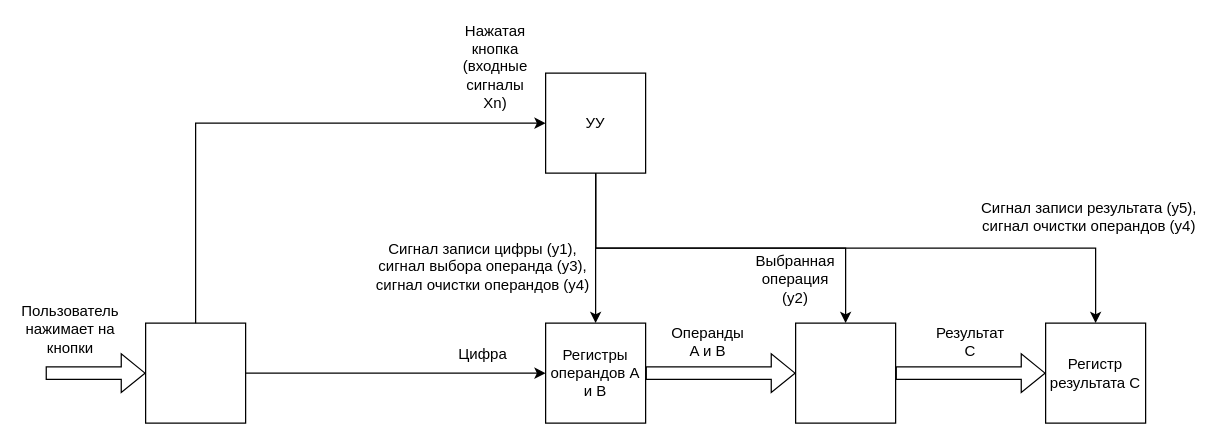
The diagram is 1229 pixels wide and 445 high, and some of its shapes have lost their labels. The box of each missing label's shape, as (x1, y1, x2, y2) in pixels:
АЛУ: (794, 322, 896, 423)
Клавиатура: (144, 322, 246, 423)
